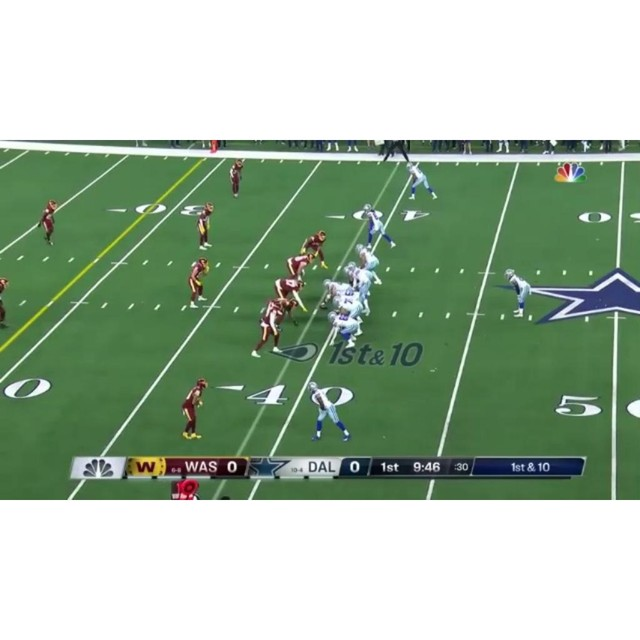american-football-player: (308, 381, 350, 442), (250, 299, 290, 359), (362, 203, 397, 250), (181, 378, 207, 440), (504, 268, 532, 317), (328, 311, 362, 351), (406, 162, 438, 201), (275, 276, 309, 312), (356, 243, 383, 285), (300, 230, 328, 269), (188, 257, 209, 308), (319, 278, 354, 308), (286, 251, 316, 282), (196, 201, 214, 249), (39, 199, 57, 246), (229, 159, 245, 198), (0, 277, 9, 328)
